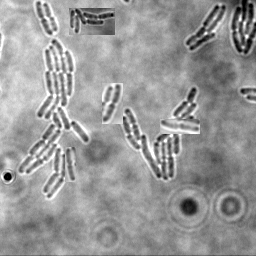Dividing: (102, 83, 123, 124), (34, 1, 52, 37), (160, 119, 200, 134), (41, 3, 57, 33), (65, 147, 76, 182)
Microcolony: (18, 40, 89, 199), (120, 87, 197, 181), (184, 5, 226, 52), (230, 1, 255, 56), (69, 8, 115, 35)
